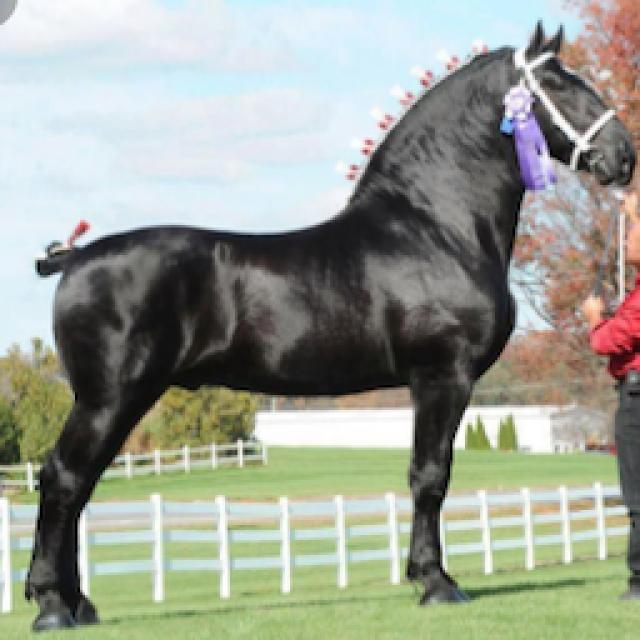Horse: (5, 10, 640, 635)
